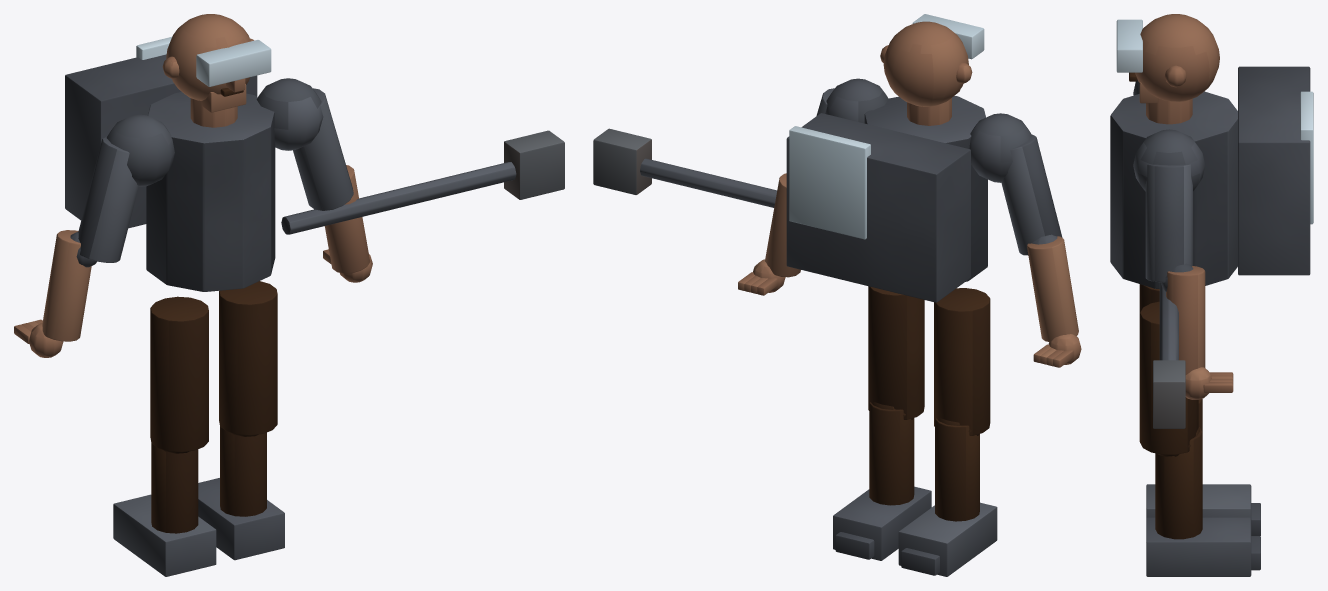
Rendered from unit_veiled_builder.fbx.
3 views of the same model, side by side, from view 1: azimuth 30°, elevation 25°; view 2: azimuth 150°, elevation 25°; view 3: azimuth 270°, elevation 25° (orthographic). The views are drawn at different scales.
Parts seen in each view (by area): view 1: unit_veiled_builder; view 2: unit_veiled_builder; view 3: unit_veiled_builder.
Part boxes in pixels (<box>): unit_veiled_builder: <box>14,14,564,576</box>; unit_veiled_builder: <box>593,14,1081,576</box>; unit_veiled_builder: <box>1110,14,1313,576</box>.
Size of the model in its own units: 1.79 by 1.78 by 0.6192.
